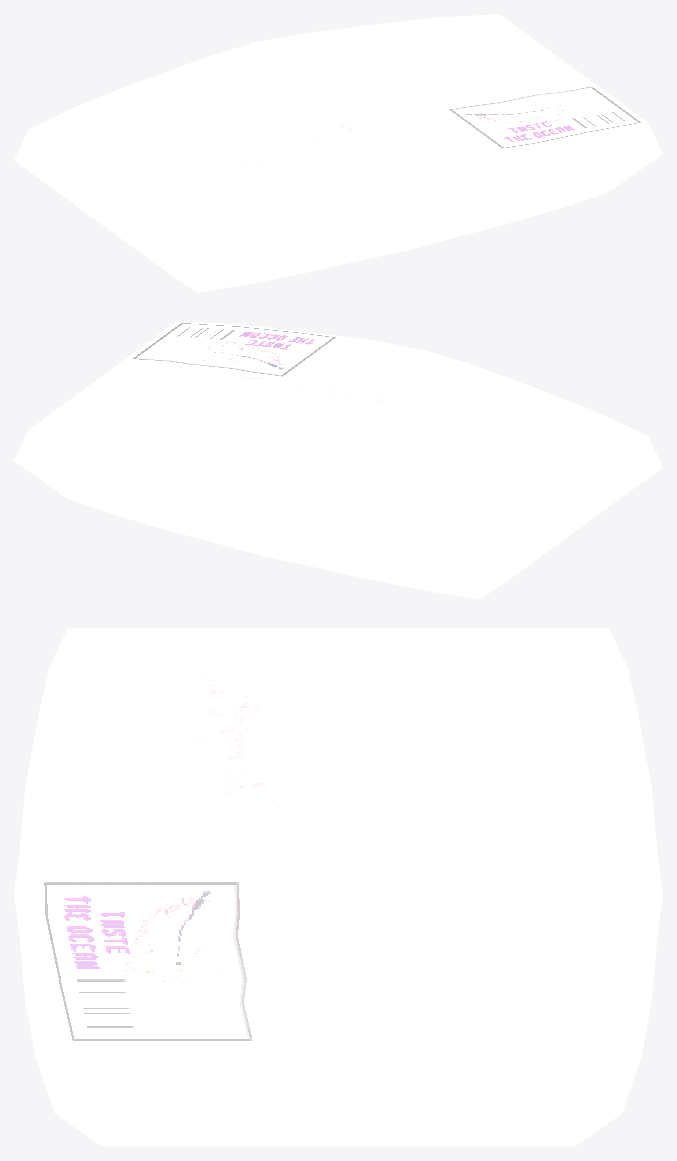
File: FishPackage_3.glb
The picture shows the model from 3 angles, top to bottom: view 1: azimuth 30°, elevation 25°; view 2: azimuth 150°, elevation 25°; view 3: azimuth 270°, elevation 25°; orthographic projection. The views are drawn at different scales.
Parts seen in each view (by area): view 1: FishPackage_3; view 2: FishPackage_3; view 3: FishPackage_3.
Boxes of the visible parts, box(x1,y1,x2,y2) form: FishPackage_3: box(14, 14, 662, 292); FishPackage_3: box(14, 321, 662, 599); FishPackage_3: box(14, 628, 662, 1146).
Bounding box in the file's own units: 1.23 × 0.2144 × 0.768.
